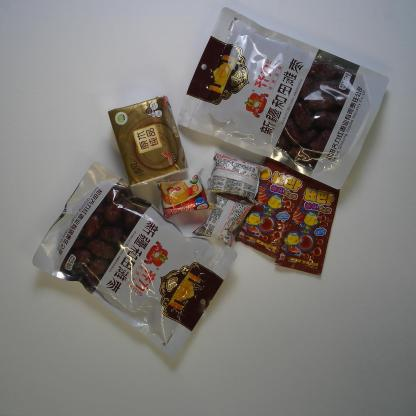Candy: (235, 156, 309, 260), (274, 174, 341, 277)
Dessert: (192, 191, 256, 249), (206, 150, 268, 204), (156, 167, 215, 219)
Dried Food: (31, 161, 238, 361), (176, 5, 390, 192)
Tissue: (108, 96, 190, 188)
